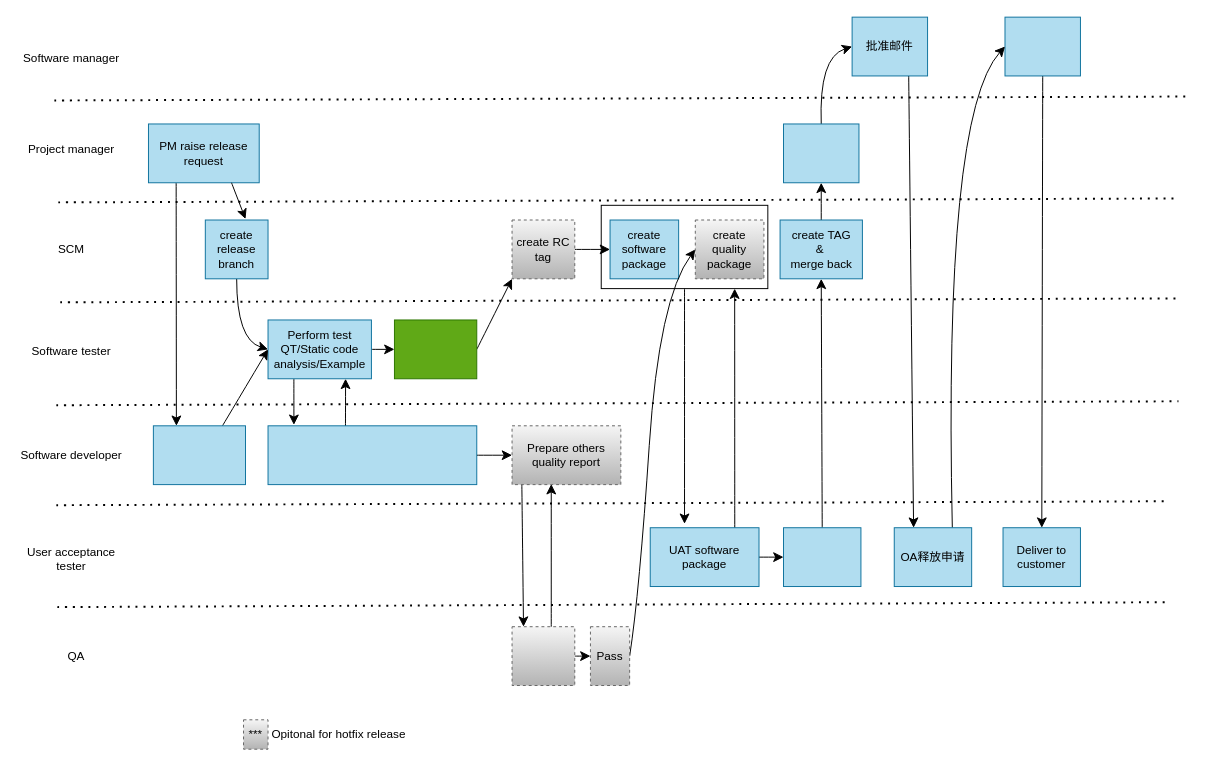
This 1205x766 diagram has some shape labels left out. Here are the shapes that lost their labels. From the top down, the box of each, then its label:
(1004, 16, 1080, 76): OA批准
(783, 123, 859, 183): 释放申请邮件
(393, 319, 477, 379): Test pass
(152, 425, 245, 485): commit feature of bugfix patch to release branch
(267, 425, 477, 485): Fix issues
(783, 527, 861, 587): UAT Pass
(511, 626, 575, 686): Review quality doc
